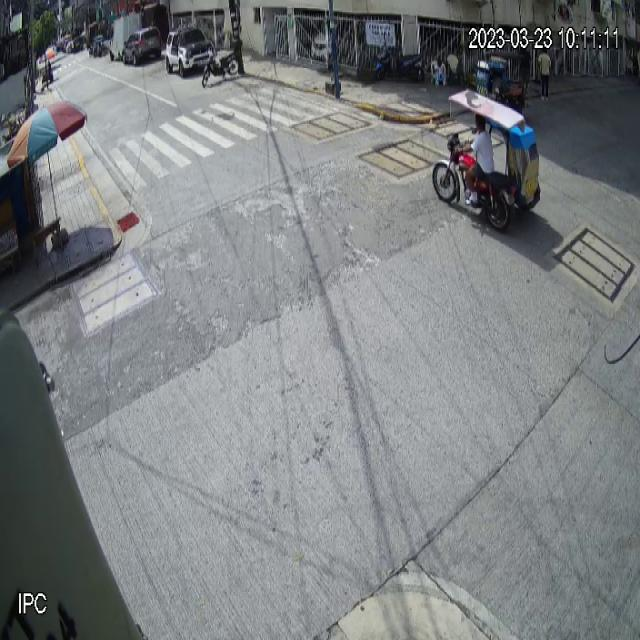Motorcycle: (202, 38, 242, 88)
Tricycle: (432, 87, 542, 231)
